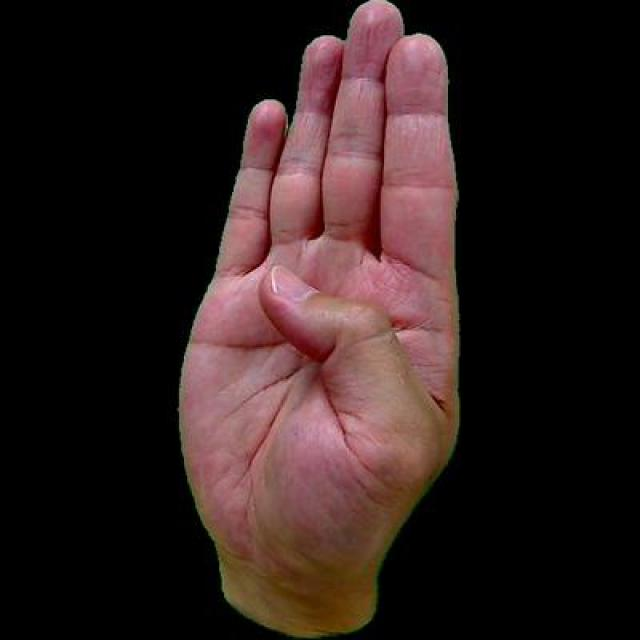b: (165, 0, 470, 637)
